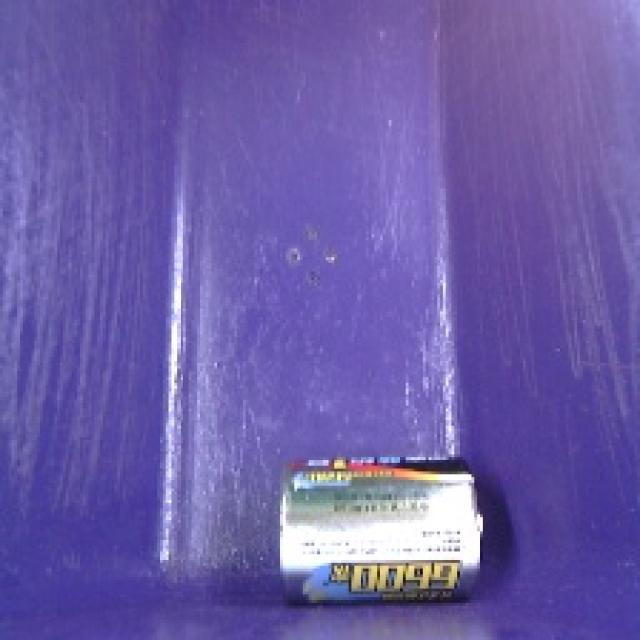battery: (266, 446, 500, 618)
